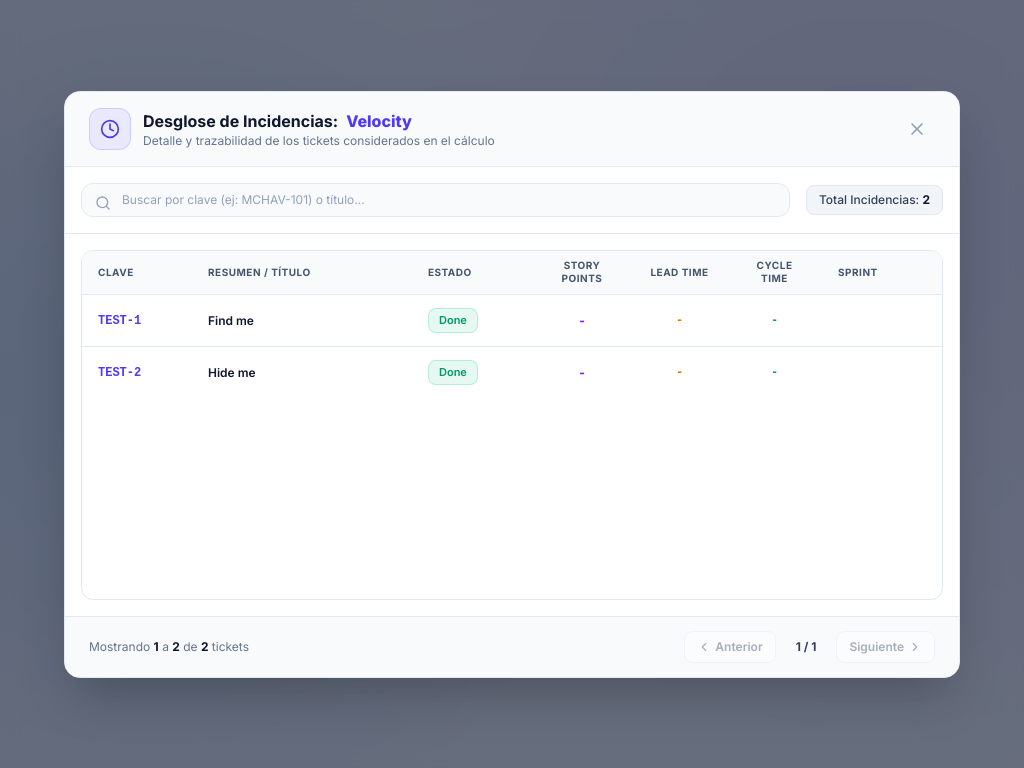
KpiDetailModal › filters issues based on search term
Type "Find" into the field with placeholder "Buscar por clave (ej: MCHAV-101) o título..." at (435, 200), box [81,182,790,216]
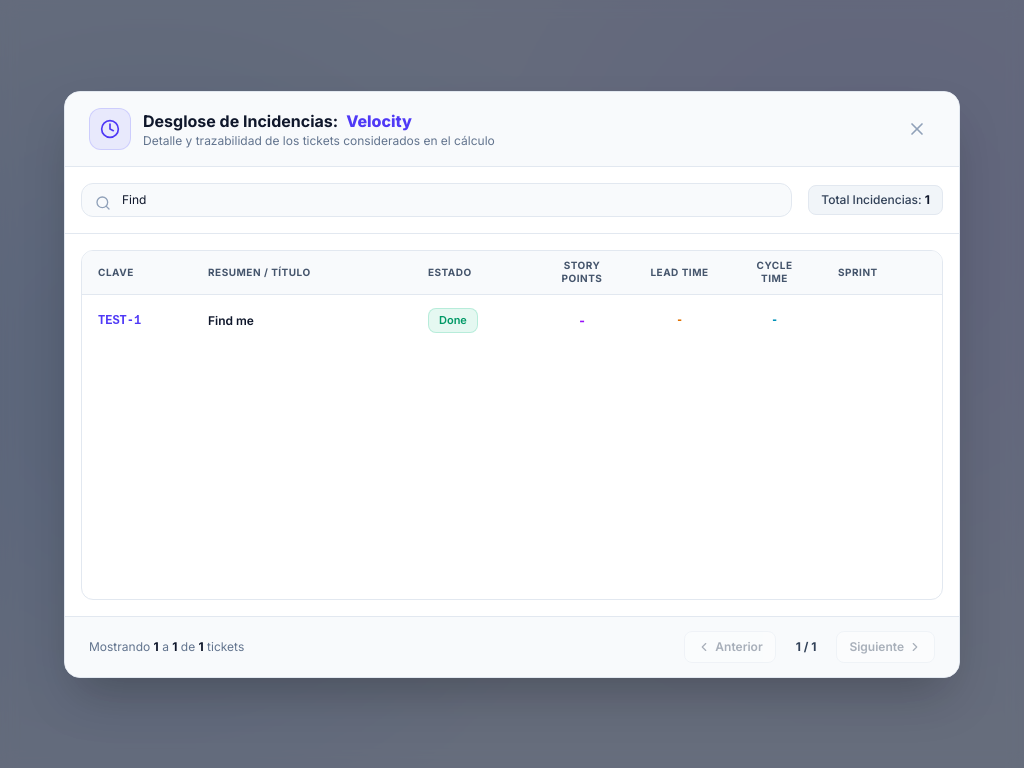
Expected: the text "TEST-1" is shown, [82,294,192,346]
Now the text "TEST-2" is gone
